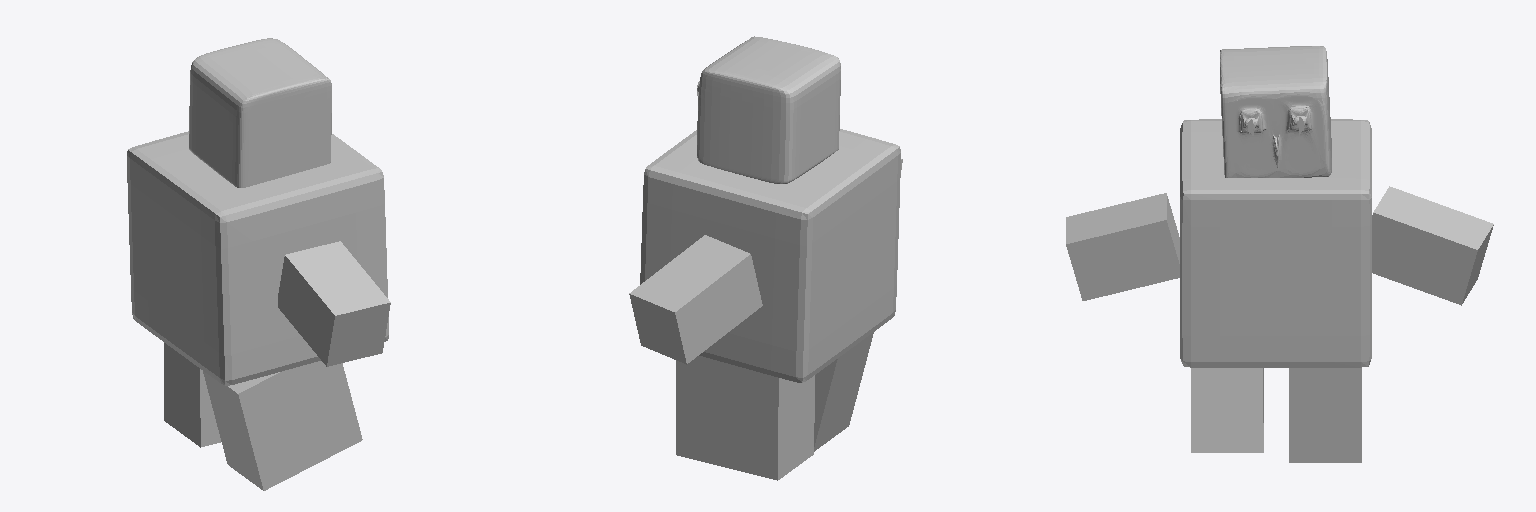
3 renders of one model, left to right at view 1: azimuth 30°, elevation 25°; view 2: azimuth 150°, elevation 25°; view 3: azimuth 270°, elevation 25°, orthographic.
Visible parts, largest first — view 1: Cube_Cube.001, Cube.001_Cube.002, Cube.002_Cube.003, Cube.005_Cube.007, Cube.003_Cube.004; view 2: Cube_Cube.001, Cube.001_Cube.002, Cube.003_Cube.004, Cube.004_Cube.005, Cube.002_Cube.003; view 3: Cube_Cube.001, Cube.001_Cube.002, Cube.004_Cube.005, Cube.005_Cube.007, Cube.003_Cube.004, Cube.002_Cube.003.
Part boxes in pixels (bbox=[...]): Cube_Cube.001: bbox=[127, 131, 388, 385]; Cube.001_Cube.002: bbox=[189, 38, 331, 187]; Cube.002_Cube.003: bbox=[203, 361, 362, 490]; Cube.005_Cube.007: bbox=[278, 241, 390, 366]; Cube.003_Cube.004: bbox=[164, 343, 220, 447]; Cube_Cube.001: bbox=[640, 129, 900, 382]; Cube.001_Cube.002: bbox=[697, 36, 840, 183]; Cube.003_Cube.004: bbox=[676, 356, 814, 480]; Cube.004_Cube.005: bbox=[629, 235, 762, 364]; Cube.002_Cube.003: bbox=[814, 332, 873, 451]; Cube_Cube.001: bbox=[1180, 119, 1371, 367]; Cube.001_Cube.002: bbox=[1220, 46, 1331, 177]; Cube.004_Cube.005: bbox=[1372, 186, 1493, 305]; Cube.005_Cube.007: bbox=[1066, 193, 1179, 300]; Cube.003_Cube.004: bbox=[1289, 368, 1361, 462]; Cube.002_Cube.003: bbox=[1191, 368, 1263, 452].
Size of the model in its own units: 1.5 by 3.24 by 3.24.